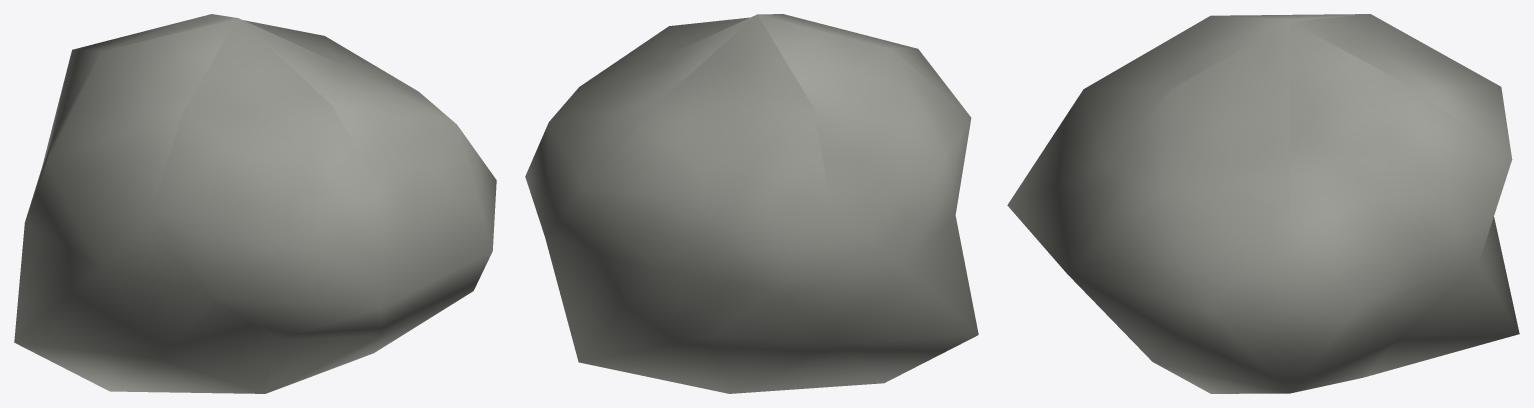
Rendered from boulder.glb.
3 views of the same model, side by side, from view 1: azimuth 30°, elevation 25°; view 2: azimuth 150°, elevation 25°; view 3: azimuth 270°, elevation 25° (orthographic).
Visible parts, largest first — view 1: boulder; view 2: boulder; view 3: boulder.
Boxes of the visible parts, x1,y1,x2,y2 form: boulder: (14, 14, 496, 393); boulder: (525, 14, 978, 393); boulder: (1007, 14, 1519, 393).
Size of the model in its own units: 1.45 by 1.08 by 1.47.
1 material, 1 textured.
